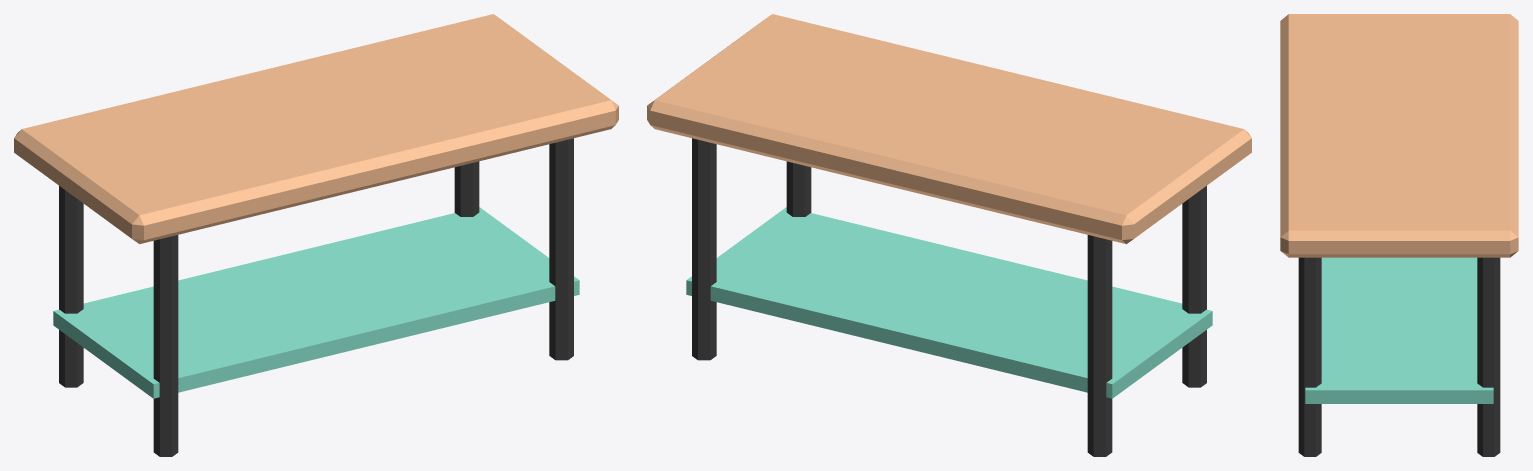
3 renders of one model, left to right at view 1: azimuth 30°, elevation 25°; view 2: azimuth 150°, elevation 25°; view 3: azimuth 270°, elevation 25°, orthographic. The views are drawn at different scales.
Visible parts, largest first — view 1: Worktop, Lower shelf, Leg, Leg.002, Leg.001, Leg.003; view 2: Worktop, Lower shelf, Leg.001, Leg.003, Leg, Leg.002; view 3: Worktop, Lower shelf, Leg.002, Leg.003.
Boxes of the visible parts, x1=… form: Worktop: x1=14, y1=14, x2=618, y2=244; Lower shelf: x1=53, y1=207, x2=579, y2=398; Leg: x1=153, y1=235, x2=178, y2=456; Leg.002: x1=549, y1=138, x2=573, y2=360; Leg.001: x1=59, y1=186, x2=83, y2=387; Leg.003: x1=454, y1=161, x2=479, y2=216; Worktop: x1=647, y1=14, x2=1251, y2=244; Lower shelf: x1=686, y1=207, x2=1212, y2=398; Leg.001: x1=1087, y1=235, x2=1112, y2=456; Leg.003: x1=692, y1=138, x2=716, y2=360; Leg: x1=1182, y1=186, x2=1206, y2=387; Leg.002: x1=786, y1=161, x2=811, y2=216; Worktop: x1=1280, y1=14, x2=1518, y2=257; Lower shelf: x1=1305, y1=257, x2=1493, y2=403; Leg.002: x1=1298, y1=257, x2=1321, y2=456; Leg.003: x1=1477, y1=257, x2=1500, y2=456.
Size of the model in its own units: 1.76 by 0.88 by 0.792.
Materials: 1 (1 with a texture image).
